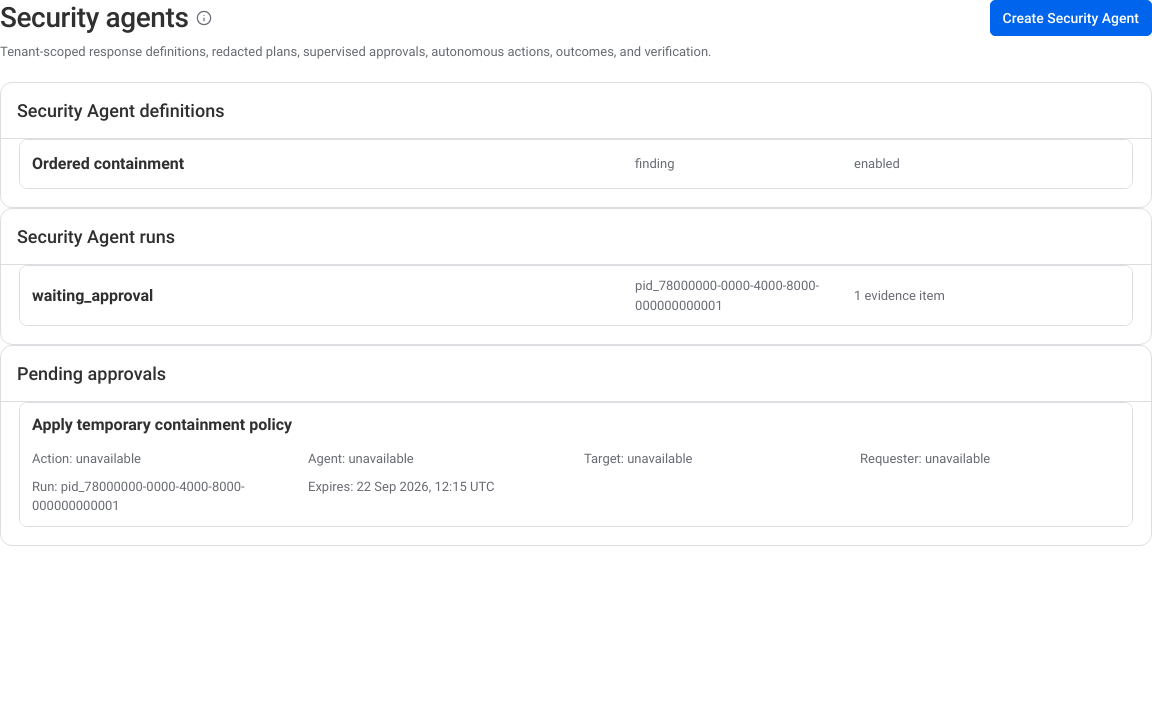
it: ordered run drawer › keeps the decision error visible when a pre-decision refresh fails late
The width and height of the screenshot is (1152, 720).
Click the button with aria-label "Open approval pid_78000000-0000-4000-8000-000000000006".
click(162, 424)  # box 20,403 -> 1132,526
(page scrolled)
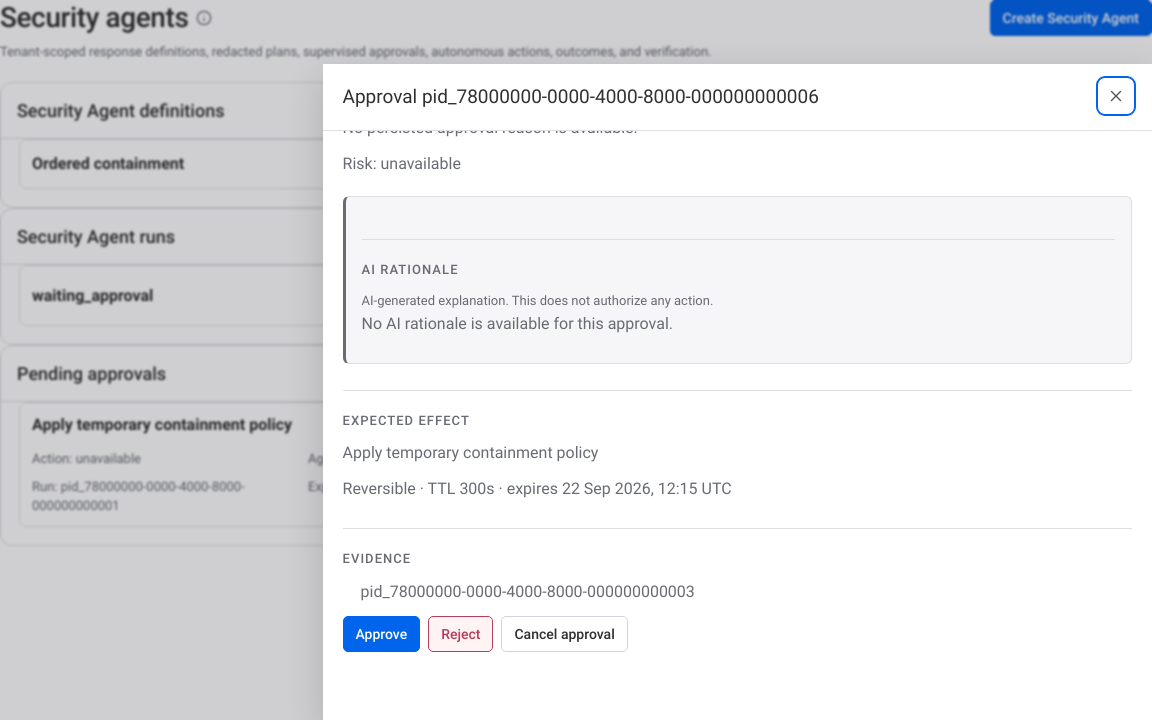
expect the dialog is shown: met
Click the button "Approve".
click(381, 634)  # box 343,616 -> 420,652
(page scrolled)
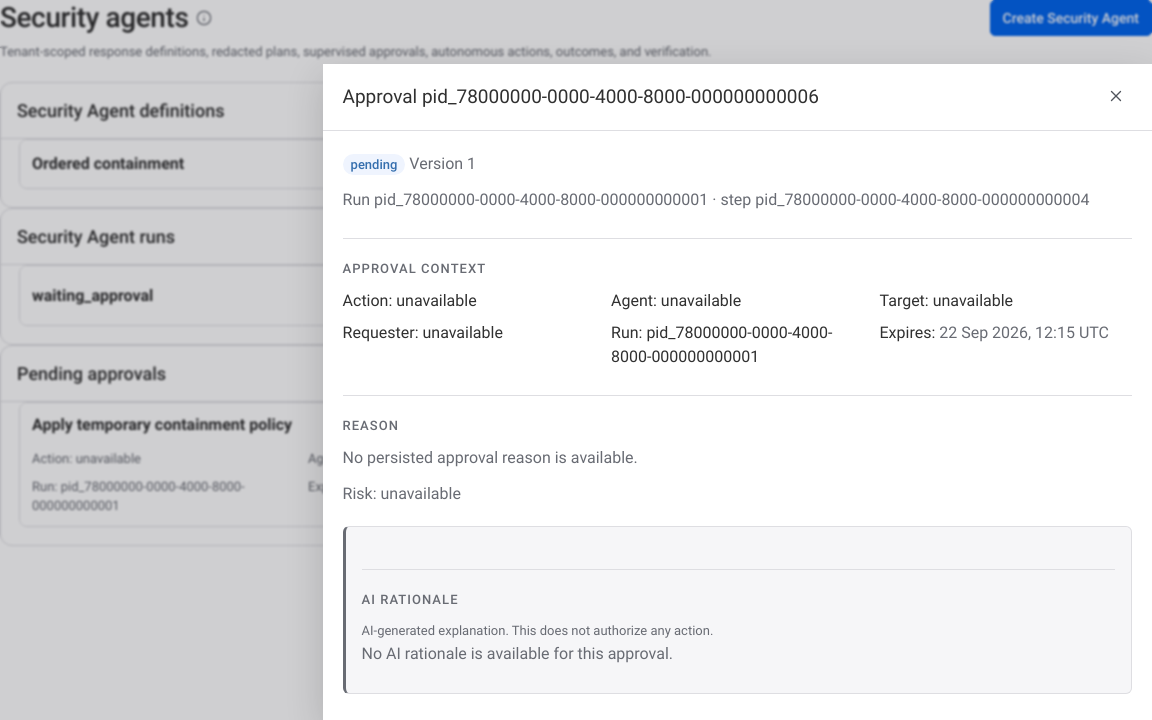
expect the text "pending" is shown: met, box 343,154 -> 405,175
expect the text "pending Version 1" is shown: met, box 343,154 -> 476,175
